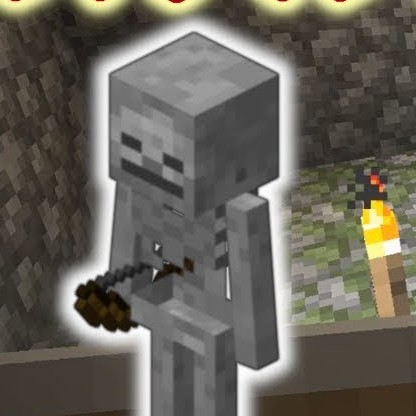skeleton: (101, 24, 292, 249)
